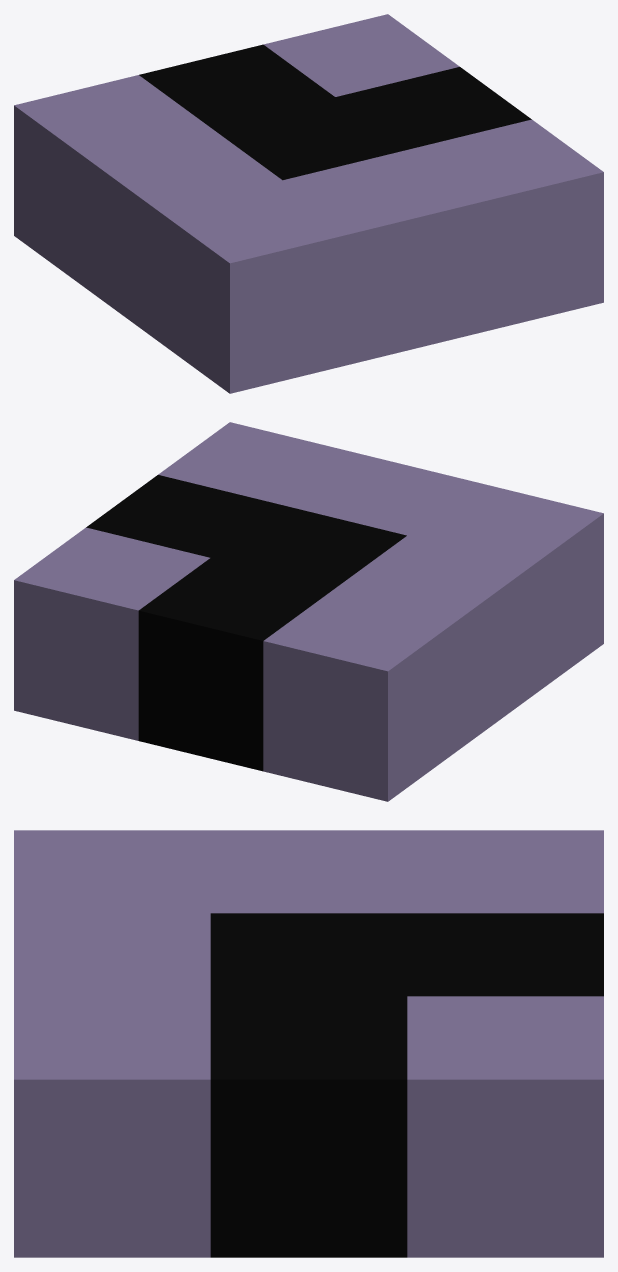
File: spinning_blades_path_a_corner.obj
3 renders of one model, top to bottom at view 1: azimuth 30°, elevation 25°; view 2: azimuth 150°, elevation 25°; view 3: azimuth 270°, elevation 25°, orthographic. The views are drawn at different scales.
Size of the model in its own units: 0.3 by 0.1 by 0.3.
Materials: 1 (1 with a texture image).
